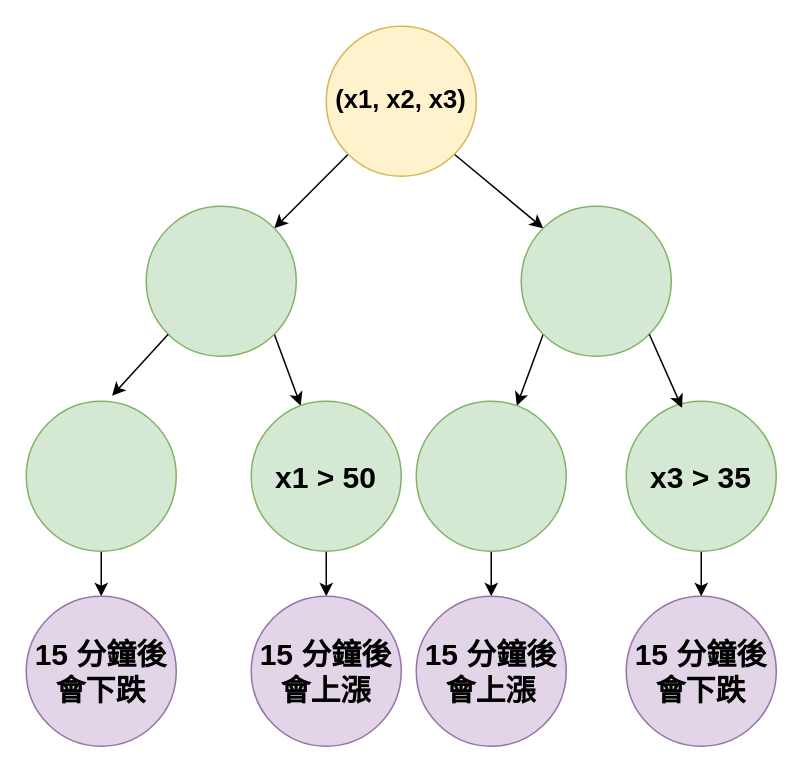
Some shapes in this 803 by 773 pixel diagram are drawn without their labels. The shapes that lost their labels are listed below. From the top down, each one's box as (x1, y1, x2, y2) in pixels, then its label:
(145, 205, 296, 356): x1 > x3
(520, 205, 671, 356): x1 < x3
(25, 400, 176, 551): x1 < 50
(415, 400, 566, 551): x3 < 35
